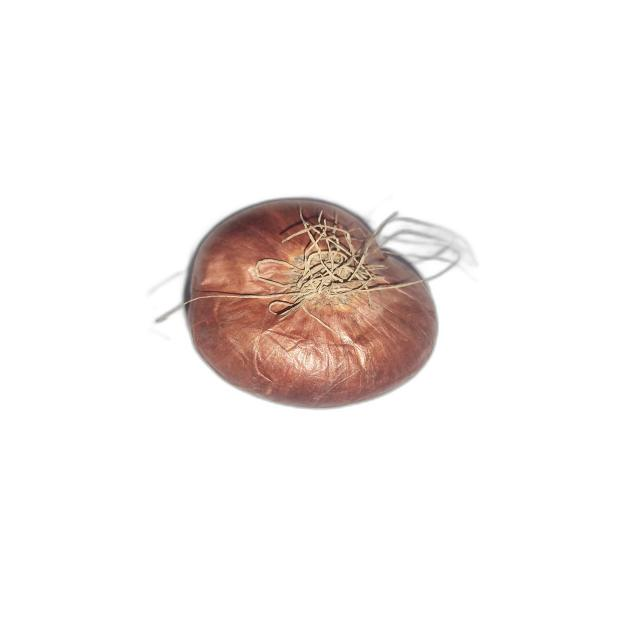onion: (182, 198, 439, 412)
